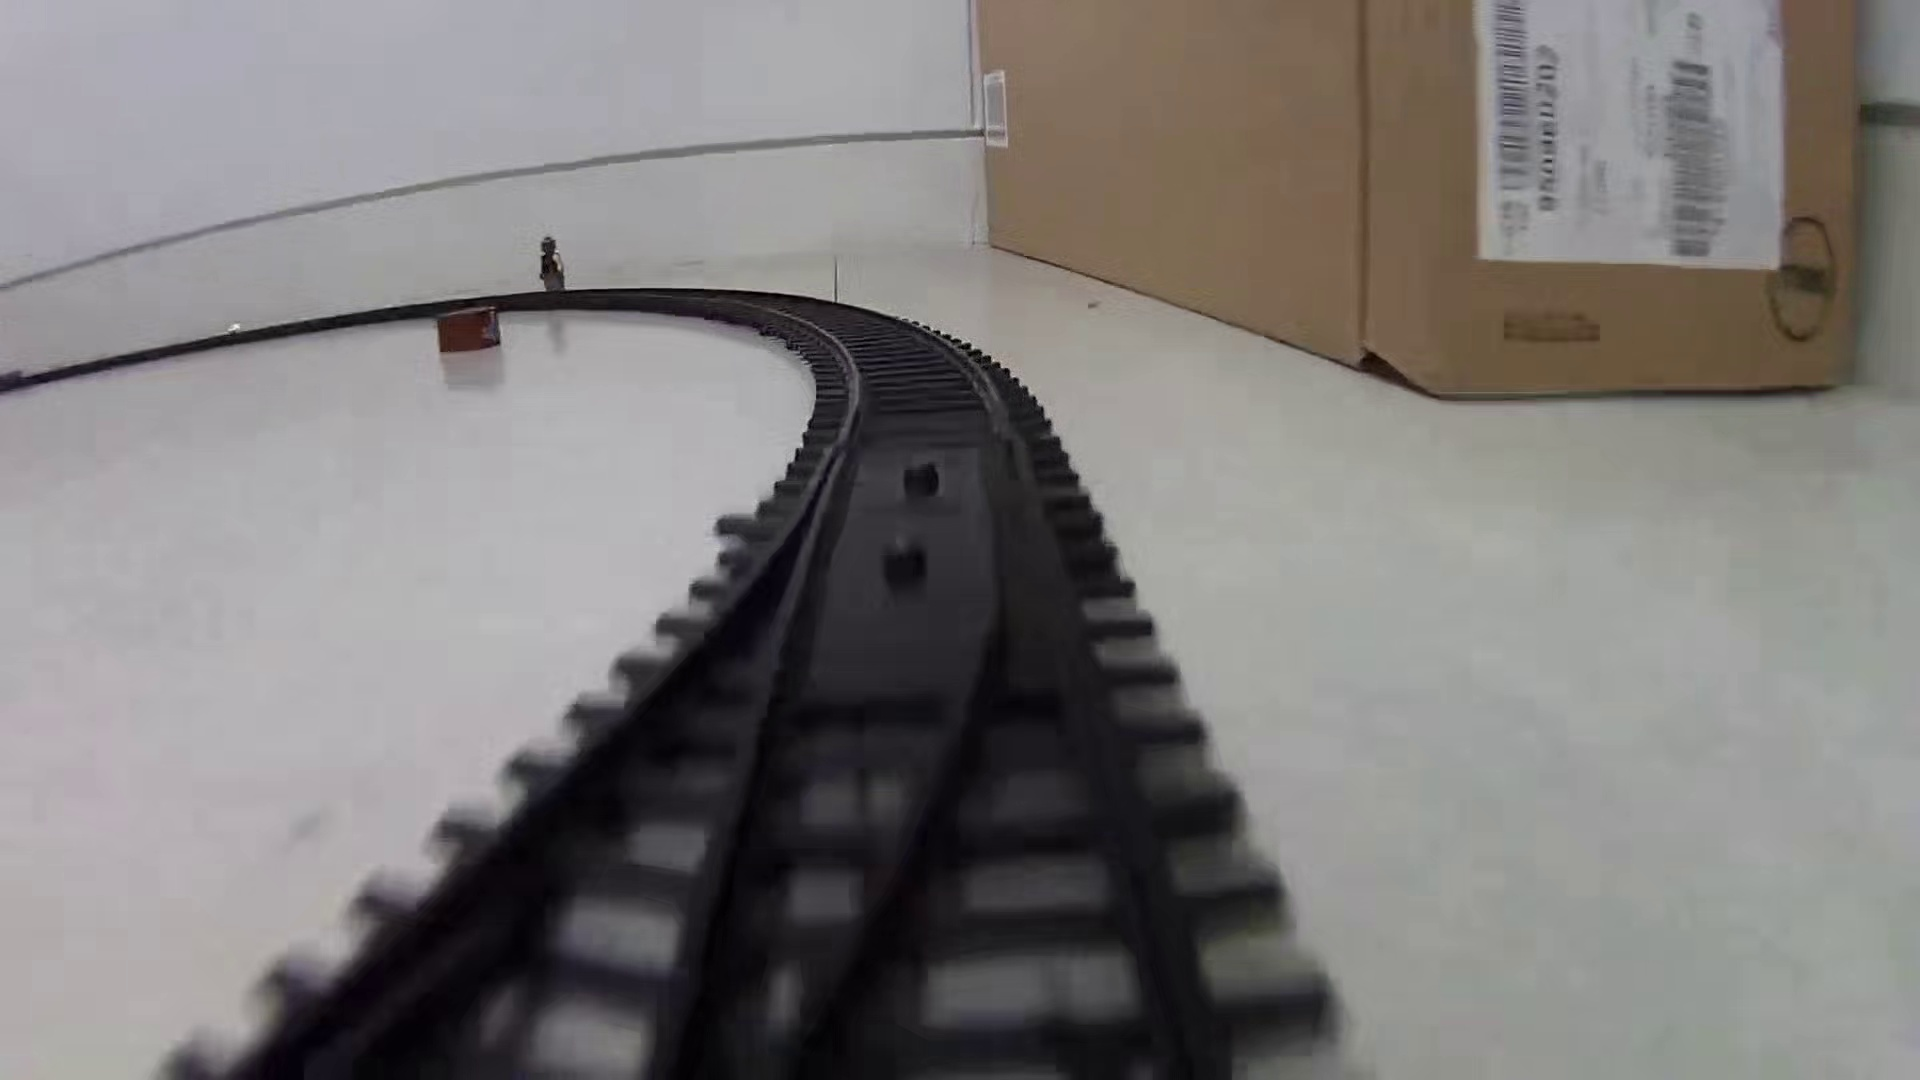box: (433, 302, 507, 359)
people: (535, 235, 568, 301)
